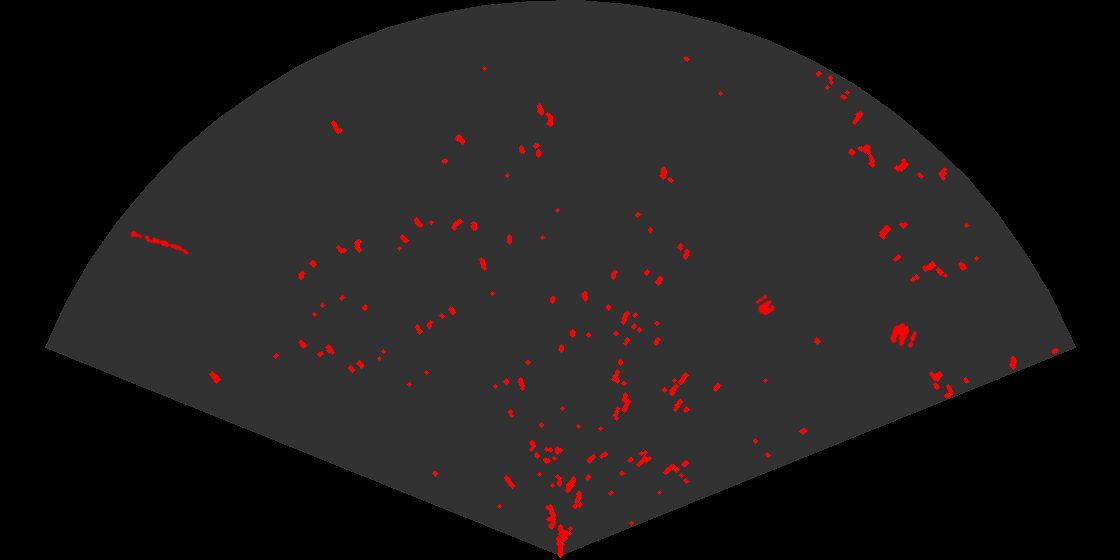ball: (888, 321, 918, 350), (754, 293, 777, 317)
chain: (128, 229, 192, 256)
